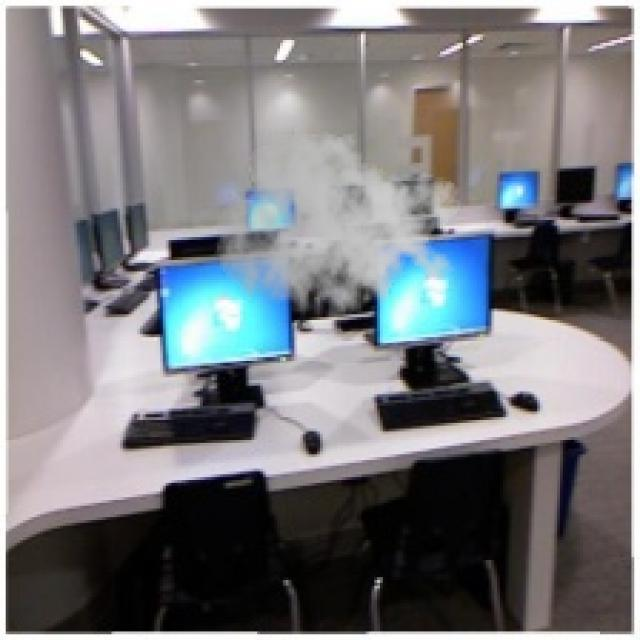Smoke: (214, 120, 463, 337)
